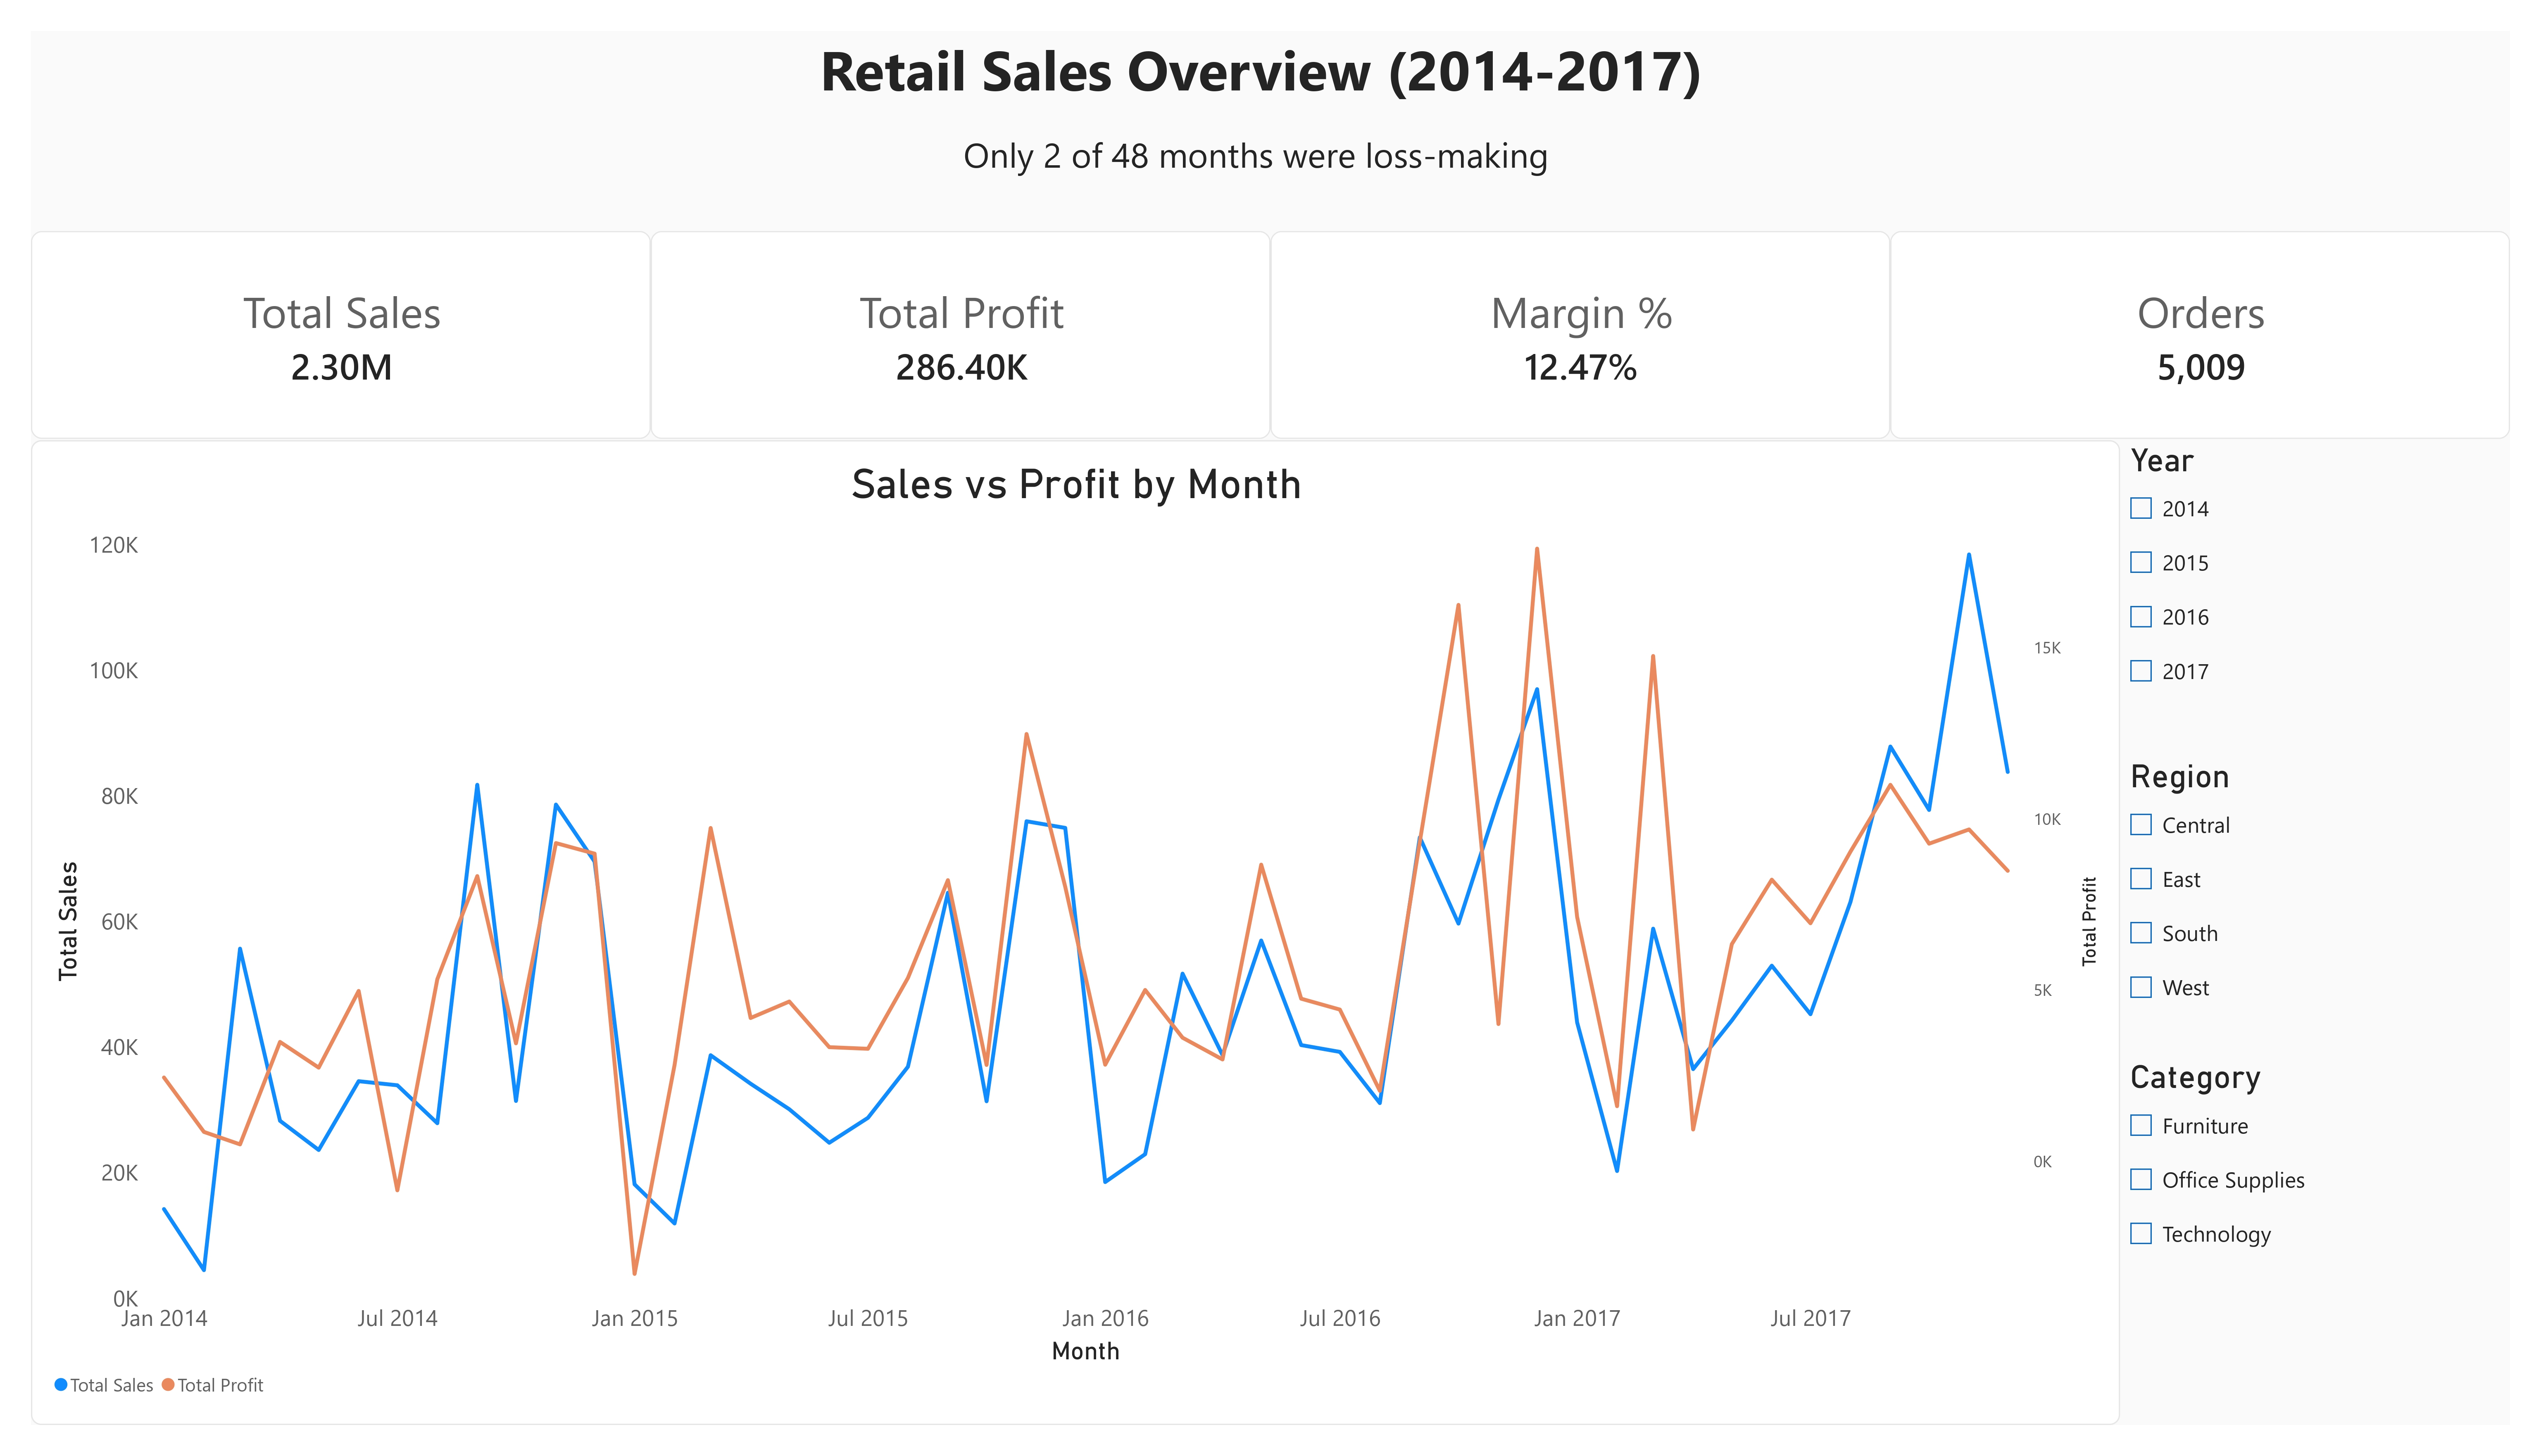

What the dashboard file says about the page in this screenshot:
{"tool":"powerbi","page":{"name":"Overview","canvas":[1920,1080],"ordinal":0},"visuals":[{"type":"lineChart","title":"Sales vs Profit by Month","fields":{"Category":["superstore superstore.order_dt.Variation.Date Hierarchy.Year","superstore superstore.order_dt.Variation.Date Hierarchy.Month"],"Y":["superstore superstore.Total Sales"],"Y2":["superstore superstore.Total Profit"]},"box":[0,316.6,1618,763],"z":0},{"type":"slicer","fields":{"Values":["superstore superstore.region"]},"box":[1618,561.7,302,233.4],"z":1000},{"type":"cardVisual","fields":{"Data":["superstore superstore.Total Sales"]},"box":[0,154.7,480,161.9],"z":2000},{"type":"cardVisual","fields":{"Data":["superstore superstore.Total Profit"]},"box":[480,154.7,480,161.9],"z":3000},{"type":"cardVisual","fields":{"Data":["superstore superstore.Margin %"]},"box":[960,154.7,480,161.9],"z":4000},{"type":"cardVisual","fields":{"Data":["superstore superstore.Orders"]},"box":[1440,154.7,480,161.9],"z":5000},{"type":"slicer","fields":{"Values":["superstore superstore.order_dt.Variation.Date Hierarchy.Year"]},"box":[1618,316.6,302,233.4],"z":6000},{"type":"slicer","fields":{"Values":["superstore superstore.category"]},"box":[1618,795.1,302,233.4],"z":7000},{"type":"textbox","box":[480,0,480,155],"z":8000},{"type":"textbox","box":[544.2,77.3,809.7,51.1],"z":9000},{"type":"textbox","box":[611.3,0,742.6,154.7],"z":10000}]}

Visuals, with their boxes on the page's 1920x1080 design canvas (x1, y1, x2, y2). These are canvas units, not pixel positions in the 2541x1456 screenshot, which may show the page scaled, cropped or inside an application window:
"Sales vs Profit by Month" lineChart: rect(0, 317, 1618, 1080)
slicer - superstore superstore.region: rect(1618, 562, 1920, 795)
cardVisual - superstore superstore.Total Sales: rect(0, 155, 480, 317)
cardVisual - superstore superstore.Total Profit: rect(480, 155, 960, 317)
cardVisual - superstore superstore.Margin %: rect(960, 155, 1440, 317)
cardVisual - superstore superstore.Orders: rect(1440, 155, 1920, 317)
slicer - superstore superstore.order_dt.Variation.Date Hierarchy.Year: rect(1618, 317, 1920, 550)
slicer - superstore superstore.category: rect(1618, 795, 1920, 1028)
textbox: rect(480, 0, 960, 155)
textbox: rect(544, 77, 1354, 128)
textbox: rect(611, 0, 1354, 155)
